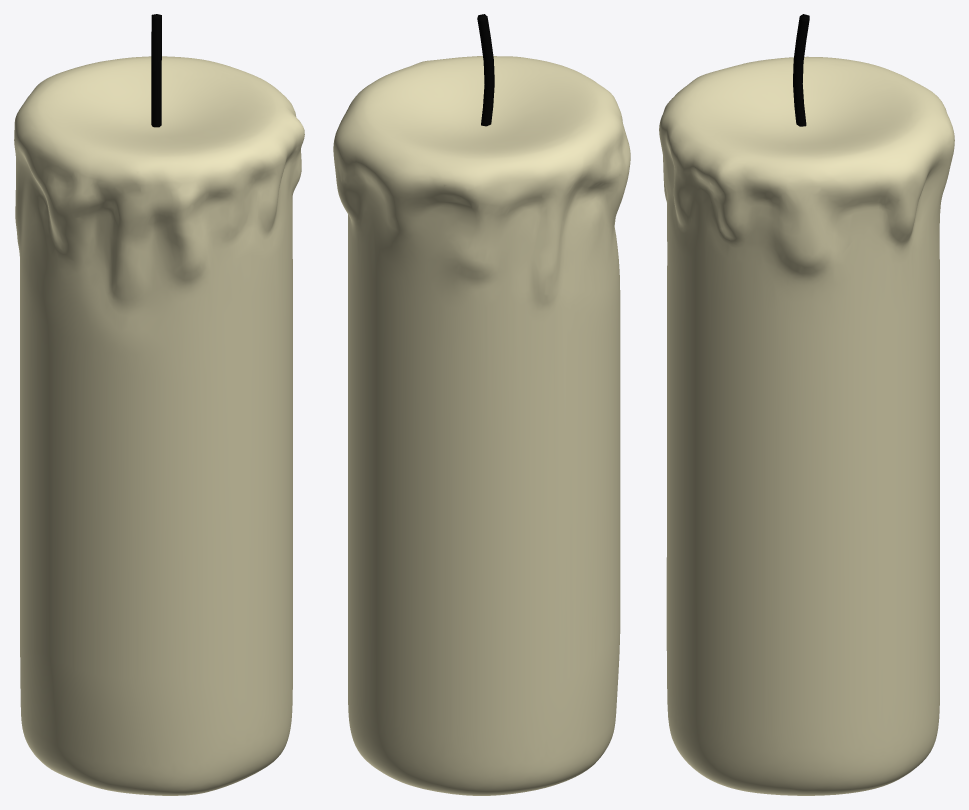
Rendered from big_candle.glb.
3 renders of one model, left to right at view 1: azimuth 30°, elevation 25°; view 2: azimuth 150°, elevation 25°; view 3: azimuth 270°, elevation 25°, orthographic.
Visible parts, largest first — view 1: Vela; view 2: Vela; view 3: Vela.
Part boxes in pixels (x1,y1,x2,y2): Vela: [14, 14, 304, 795]; Vela: [333, 14, 630, 795]; Vela: [659, 14, 954, 795].
Size of the model in its own units: 5.69 by 15.98 by 5.8.
